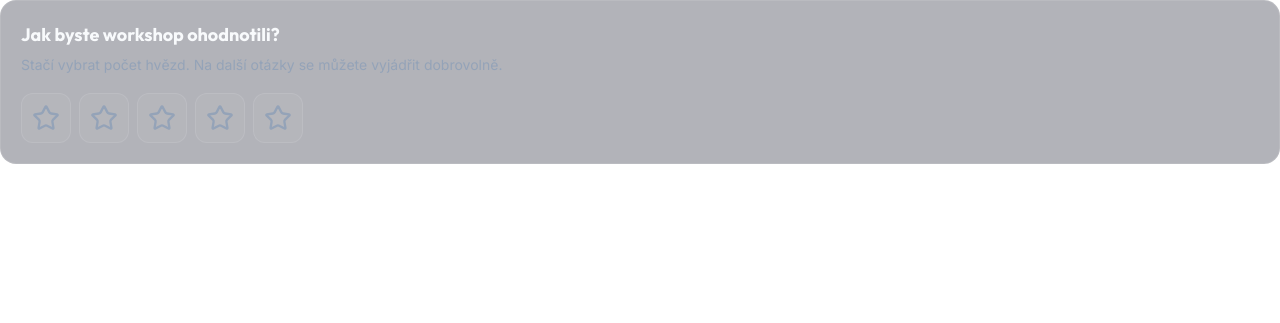
workshop wrap-up feedback › asks for the benefit first after a higher score
This screenshot has width=1280, height=323.
Click the button named "Ohodnotit workshop 5 z 5 hvězd" at (278, 118), box left=253, top=93, right=303, bottom=143
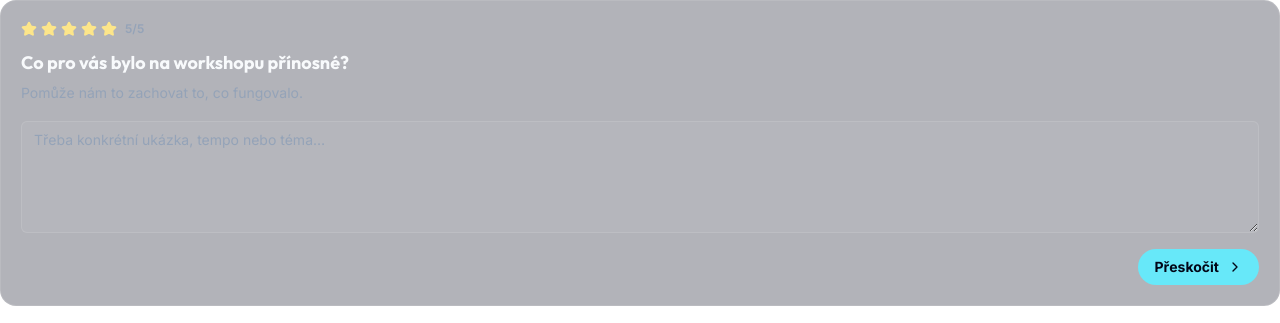
Result: the heading "Co pro vás bylo na workshopu přínosné?" is shown at left=21, top=51, right=349, bottom=74
